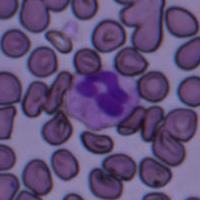N: (64, 68, 140, 130)
